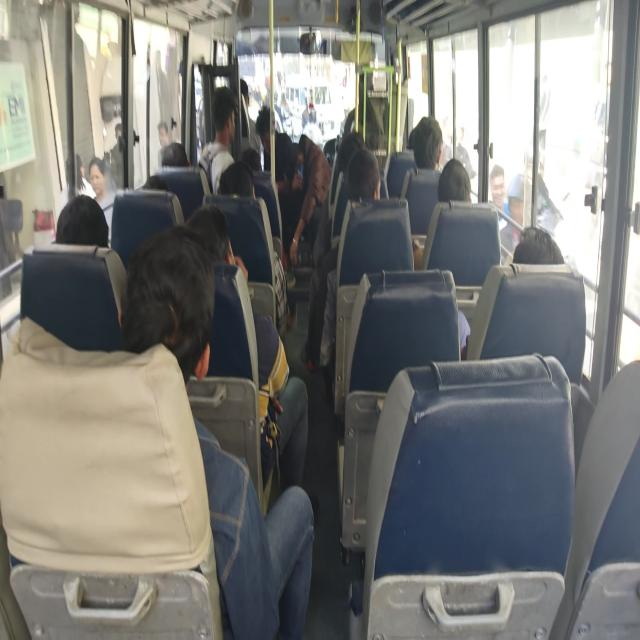person: (144, 255, 224, 368), (506, 221, 574, 292), (57, 190, 109, 252), (179, 206, 241, 258), (407, 112, 441, 176), (362, 48, 398, 108), (272, 145, 310, 197), (344, 159, 380, 211), (439, 168, 472, 222), (155, 139, 198, 180), (221, 167, 258, 209), (340, 132, 375, 174), (130, 168, 169, 204), (241, 140, 269, 176), (260, 103, 277, 146), (232, 64, 252, 98), (213, 99, 229, 129)
